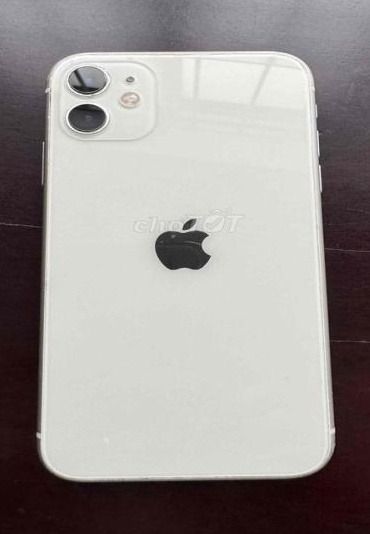scratch: (82, 47, 298, 58), (59, 58, 110, 100)
